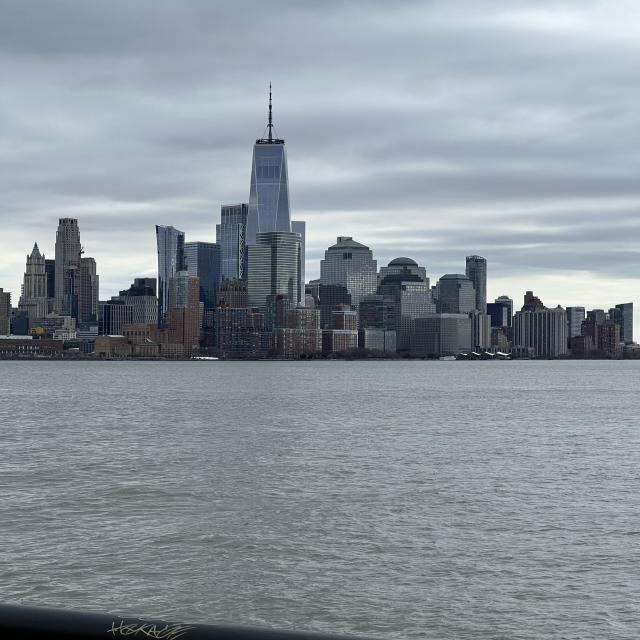WTC: (246, 82, 291, 230)
